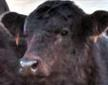muzzles: (15, 59, 40, 78)
